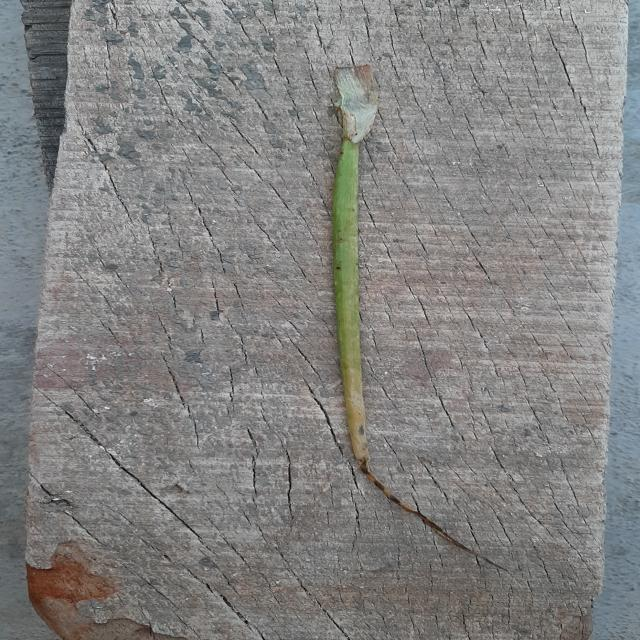onion: (333, 66, 507, 570)
